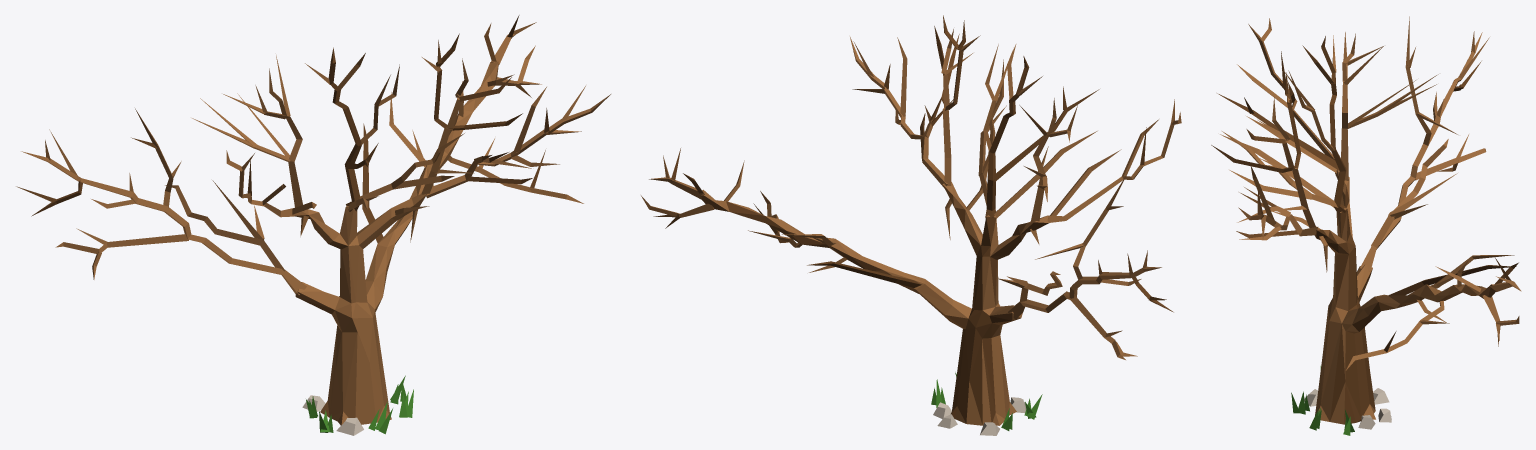
File: magnolia_bare.glb
The picture shows the model from 3 angles, left to right: view 1: azimuth 30°, elevation 25°; view 2: azimuth 150°, elevation 25°; view 3: azimuth 270°, elevation 25°; orthographic projection. The views are drawn at different scales.
Visible parts, largest first — view 1: magnolia_bare; view 2: magnolia_bare; view 3: magnolia_bare.
Boxes of the visible parts, x1=… form: magnolia_bare: x1=16, y1=15, x2=610, y2=435; magnolia_bare: x1=641, y1=15, x2=1181, y2=435; magnolia_bare: x1=1211, y1=16, x2=1521, y2=435.
Size of the model in its own units: 9.25 by 6.33 by 4.88.
